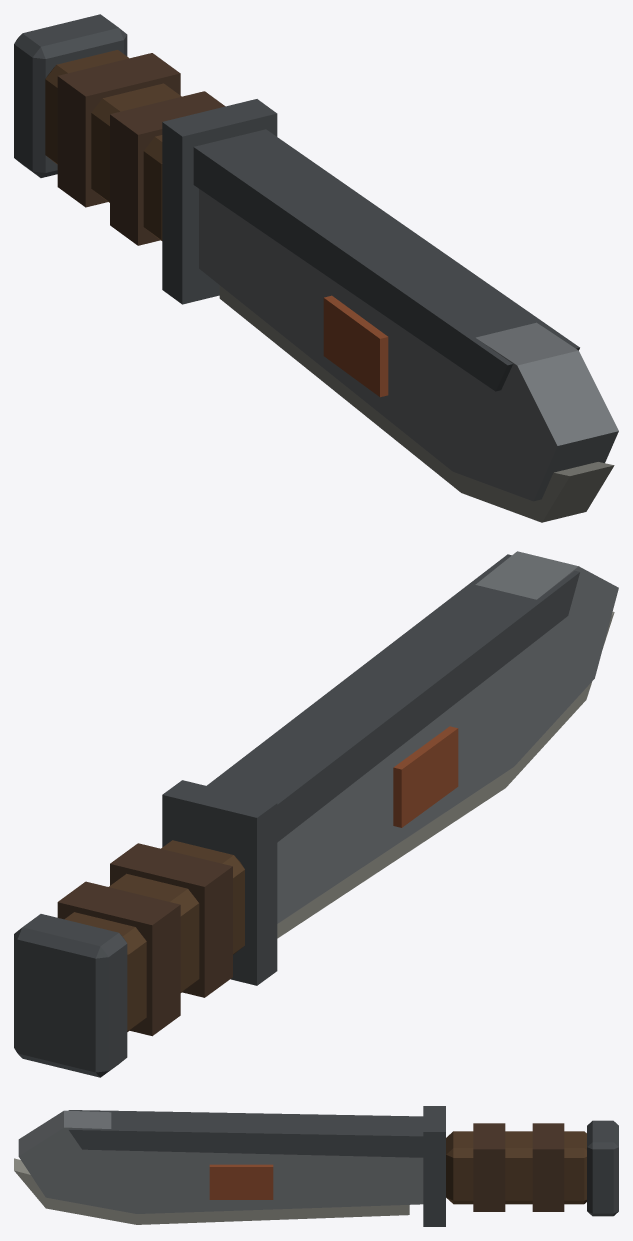
File: item_machete.glb
The picture shows the model from 3 angles, top to bottom: view 1: azimuth 30°, elevation 25°; view 2: azimuth 150°, elevation 25°; view 3: azimuth 270°, elevation 25°; orthographic projection. The views are drawn at different scales.
Parts seen in each view (by area): view 1: machete; view 2: machete; view 3: machete.
Boxes of the visible parts, x1,y1,x2,y2 form: machete: (14, 14, 618, 522); machete: (14, 551, 618, 1077); machete: (14, 1106, 618, 1226).
Bounding box in the file's own units: 0.068 × 0.121 × 0.665.
